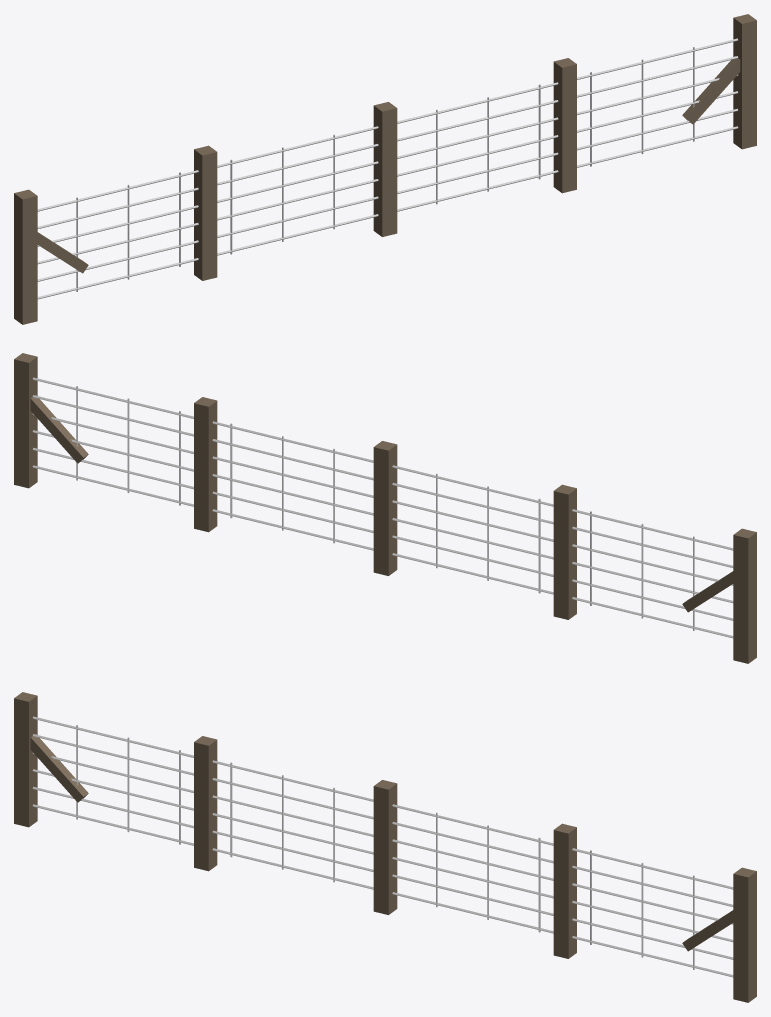
File: fence1.glb
3 renders of one model, top to bottom at view 1: azimuth 30°, elevation 25°; view 2: azimuth 150°, elevation 25°; view 3: azimuth 330°, elevation 25°, orthographic.
Parts seen in each view (by area): view 1: Cube.003, Cube, Cube.002, Cube.004, Cube.005, Cylinder, Cylinder.004, Cylinder.005, Cylinder.001, Cylinder.003, Cylinder.002, Cube.006 (+1 smaller); view 2: Cube.003, Cube, Cube.002, Cube.004, Cube.005, Cylinder, Cylinder.004, Cylinder.005, Cylinder.001, Cylinder.003, Cylinder.002, Cube.006 (+1 smaller); view 3: Cube.003, Cube.005, Cube.004, Cube.002, Cube, Cylinder, Cylinder.004, Cylinder.005, Cylinder.001, Cylinder.003, Cylinder.002, Cube.001 (+1 smaller).
Boxes of the visible parts, box(x1,y1,x2,y2) form: Cube.003: box(373, 102, 397, 236); Cube: box(14, 189, 37, 324); Cube.002: box(194, 145, 217, 280); Cube.004: box(553, 58, 576, 193); Cube.005: box(733, 14, 756, 149); Cylinder: box(37, 126, 738, 299); Cylinder.004: box(37, 56, 738, 228); Cylinder.005: box(37, 38, 737, 211); Cylinder.001: box(37, 108, 738, 281); Cylinder.003: box(37, 75, 738, 246); Cylinder.002: box(37, 91, 738, 264); Cube.006: box(682, 56, 740, 124); Cube.003: box(373, 441, 397, 575); Cube: box(733, 528, 756, 663); Cube.002: box(553, 484, 576, 619); Cube.004: box(194, 397, 217, 532); Cube.005: box(14, 353, 37, 488); Cylinder: box(32, 465, 733, 638); Cylinder.004: box(32, 395, 733, 567); Cylinder.005: box(33, 377, 733, 550); Cylinder.001: box(32, 447, 733, 620); Cylinder.003: box(32, 414, 733, 585); Cylinder.002: box(32, 430, 733, 603); Cube.006: box(30, 395, 88, 463); Cube.003: box(373, 780, 397, 914); Cube.005: box(733, 867, 756, 1002); Cube.004: box(553, 823, 576, 958); Cube.002: box(194, 736, 217, 871); Cube: box(14, 692, 37, 827); Cylinder: box(32, 804, 733, 977); Cylinder.004: box(32, 734, 733, 906); Cylinder.005: box(33, 716, 733, 889); Cylinder.001: box(32, 786, 733, 959); Cylinder.003: box(32, 753, 733, 924); Cylinder.002: box(32, 769, 733, 942); Cube.001: box(30, 734, 88, 802).
Size of the model in its own units: 12.25 by 2 by 0.25.
